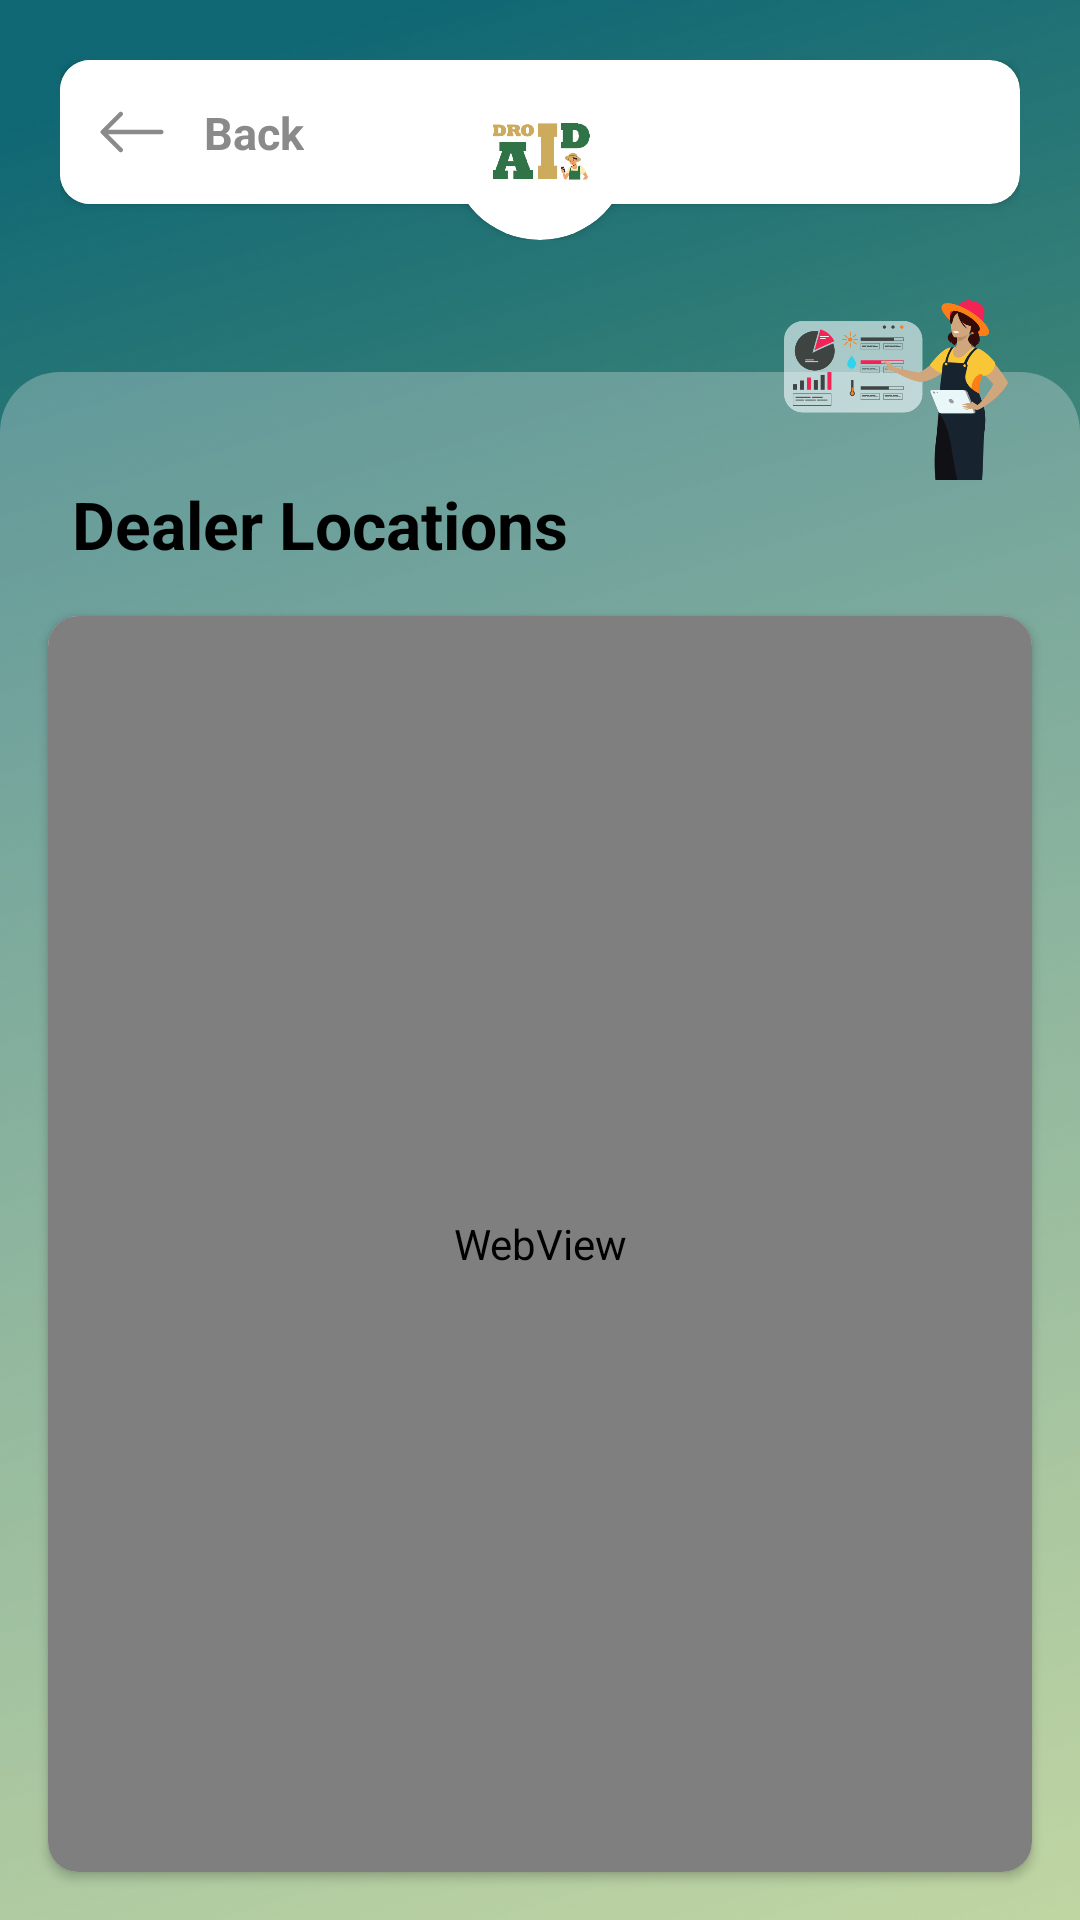

Named icons in this screenshot (1080 × 1920) and their centers, point (x, y):
left arrow: point (132, 132)
